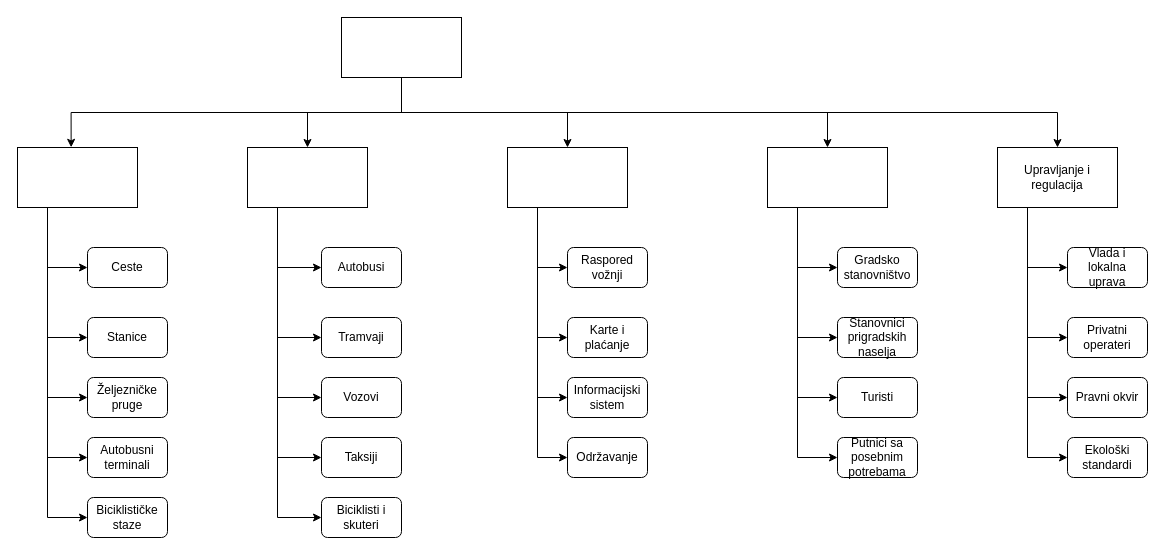
This 1165x555 diagram has some shape labels left out. The shapes that lost their labels are listed below. From the top down, each one's box as (x1, y1, x2, y2) in pixels, then its label:
(340, 16, 462, 78): CityLink
(16, 146, 138, 208): Infrastruktura
(246, 146, 368, 208): Prijevozna sredstva
(506, 146, 628, 208): Usluge
(766, 146, 888, 208): Korisnici
